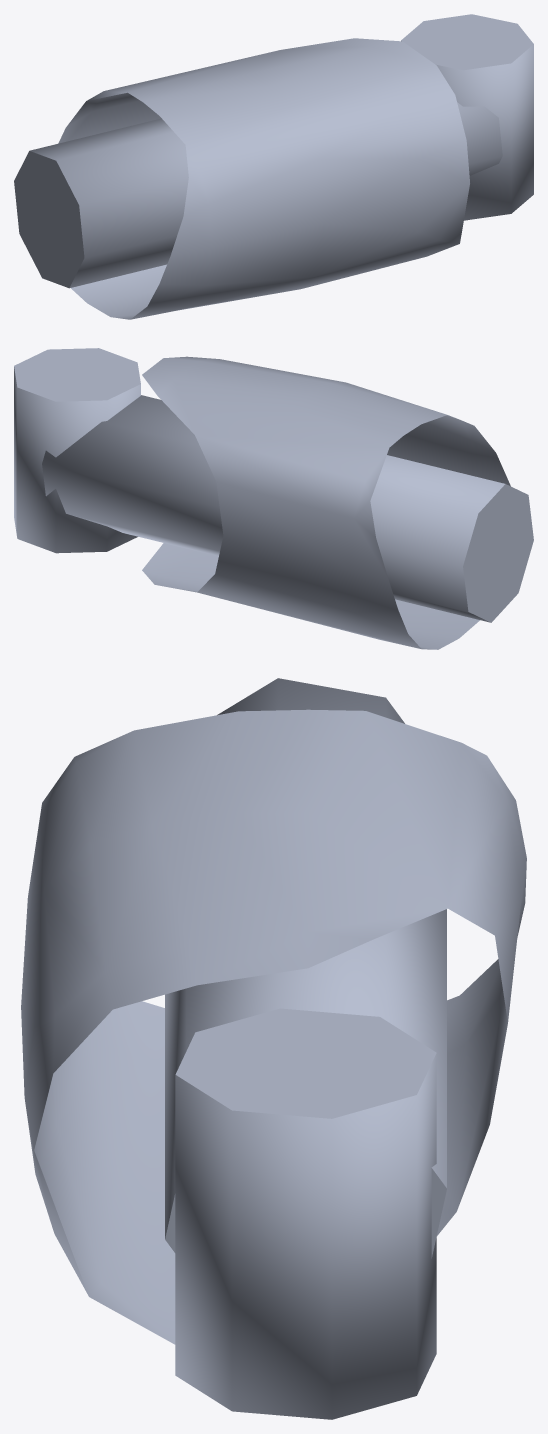
File: r_thigh.dae
3 renders of one model, top to bottom at view 1: azimuth 30°, elevation 25°; view 2: azimuth 150°, elevation 25°; view 3: azimuth 270°, elevation 25°, orthographic. The views are drawn at different scales.
Visible parts, largest first — view 1: r_thigh_mesh; view 2: r_thigh_mesh; view 3: r_thigh_mesh.
Boxes of the visible parts, left/top/right/bottom form: r_thigh_mesh: left=14, top=14, right=533, bottom=319; r_thigh_mesh: left=14, top=348, right=533, bottom=649; r_thigh_mesh: left=21, top=678, right=526, bottom=1419.
Size of the model in its own units: 0.2543 by 0.1173 by 0.1024.
